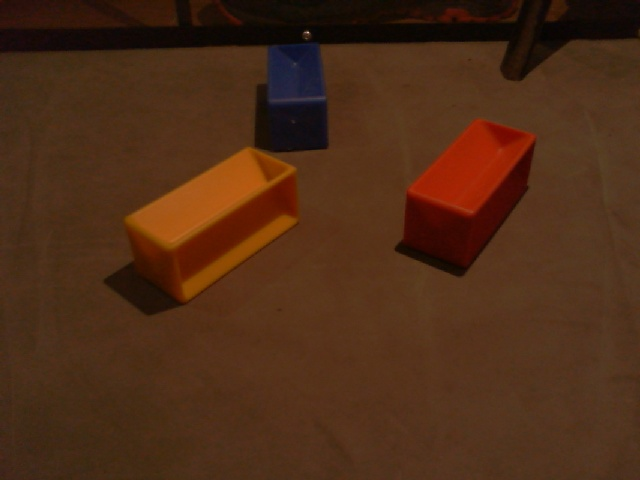BlueSample: (263, 44, 329, 152)
RedSample: (399, 115, 538, 273)
YellowSample: (123, 143, 297, 309)
